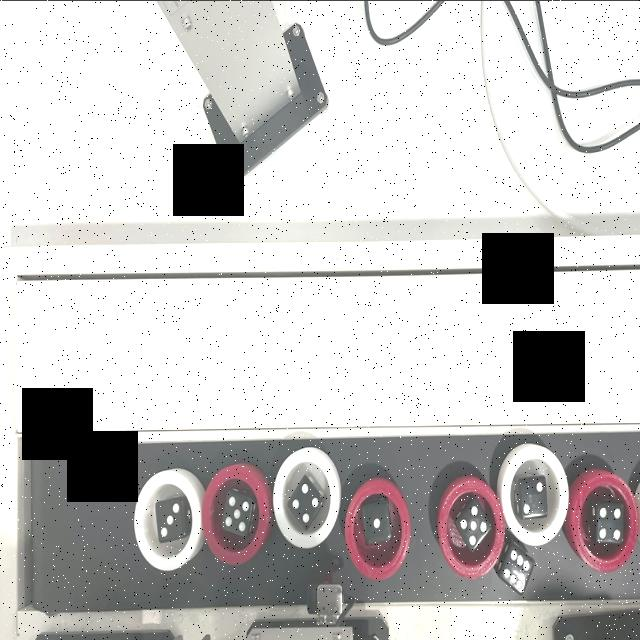DICE1: (366, 506, 388, 540)
DICE2: (522, 477, 546, 517)
DICE3: (159, 498, 184, 538)
DICE4: (293, 480, 320, 522), (598, 503, 624, 542)
DICE5: (224, 488, 252, 538), (460, 504, 488, 546)
DICE6: (504, 546, 532, 591)
RedChip: (571, 472, 639, 573), (202, 466, 269, 565), (348, 482, 412, 576), (438, 480, 500, 576)
WhiteChip: (501, 444, 569, 546), (274, 452, 340, 548), (138, 472, 201, 568)
